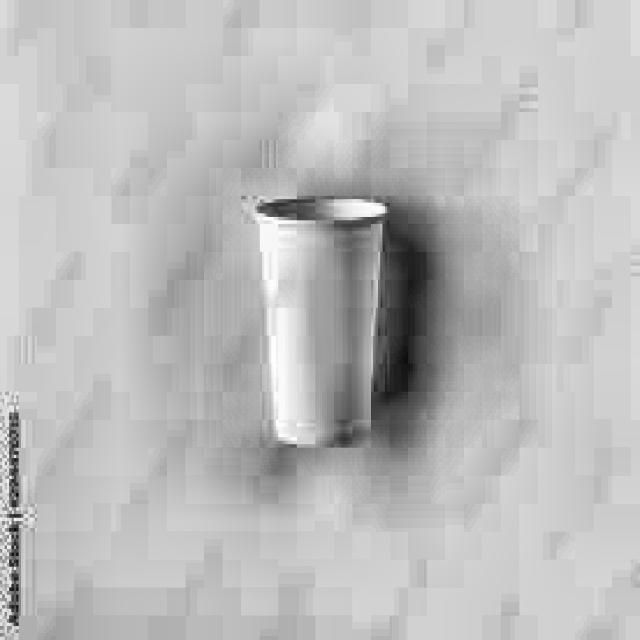Cup: (244, 186, 390, 447)
